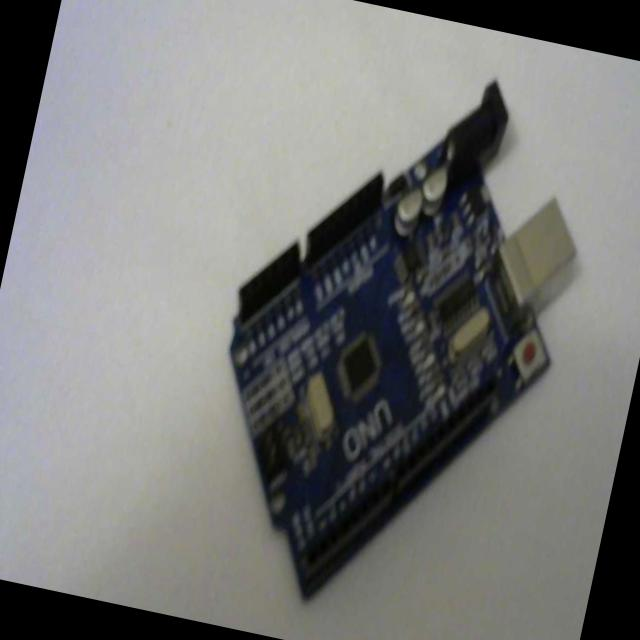arduino: (165, 27, 621, 640)
